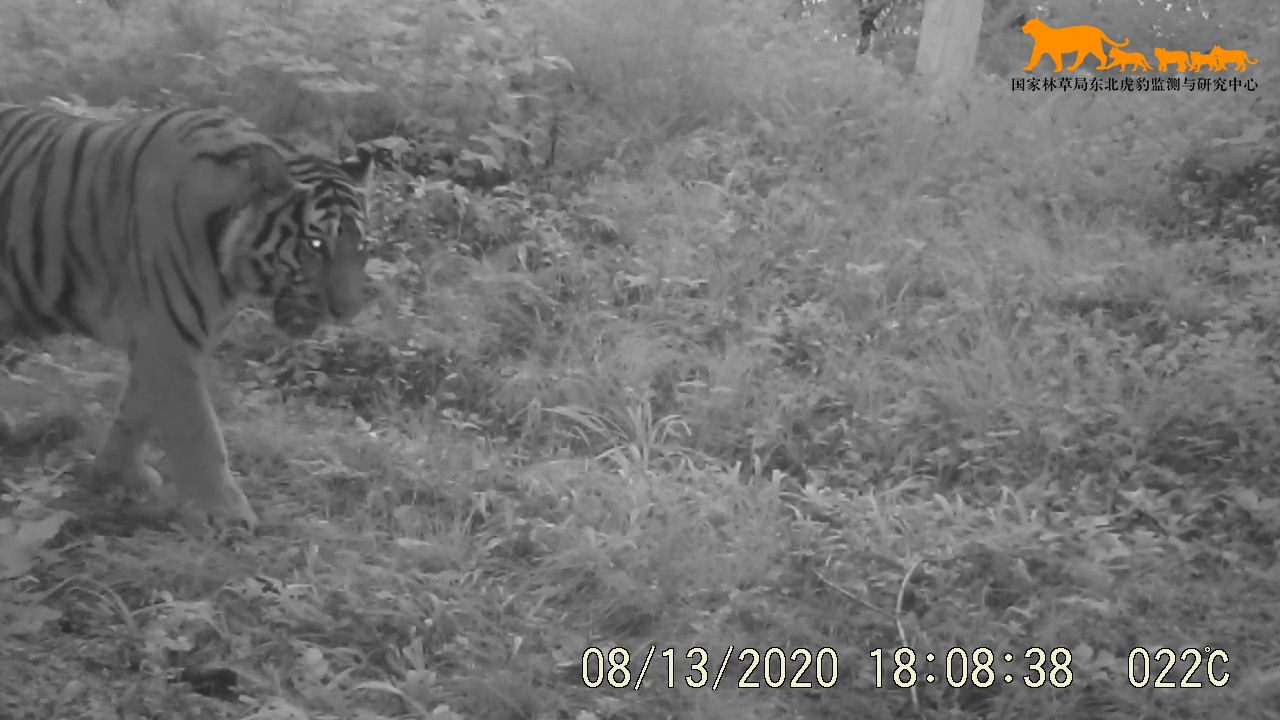Tiger: (1, 79, 427, 538)
